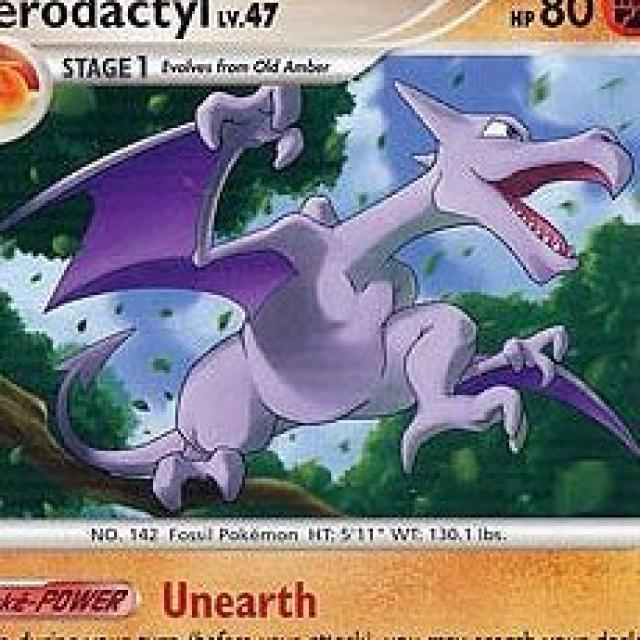Aerodactyl: (187, 79, 619, 443)
